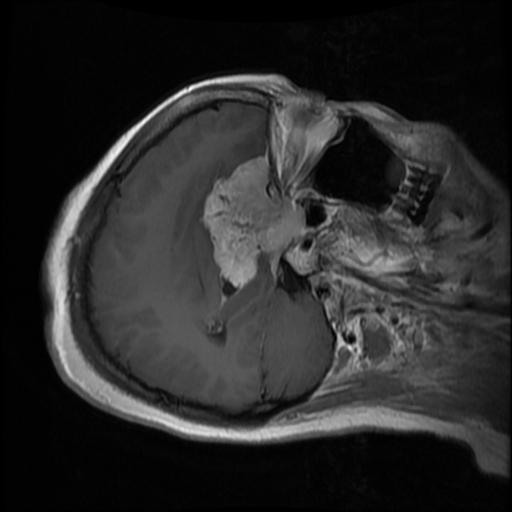meningioma: (201, 156, 304, 287)
